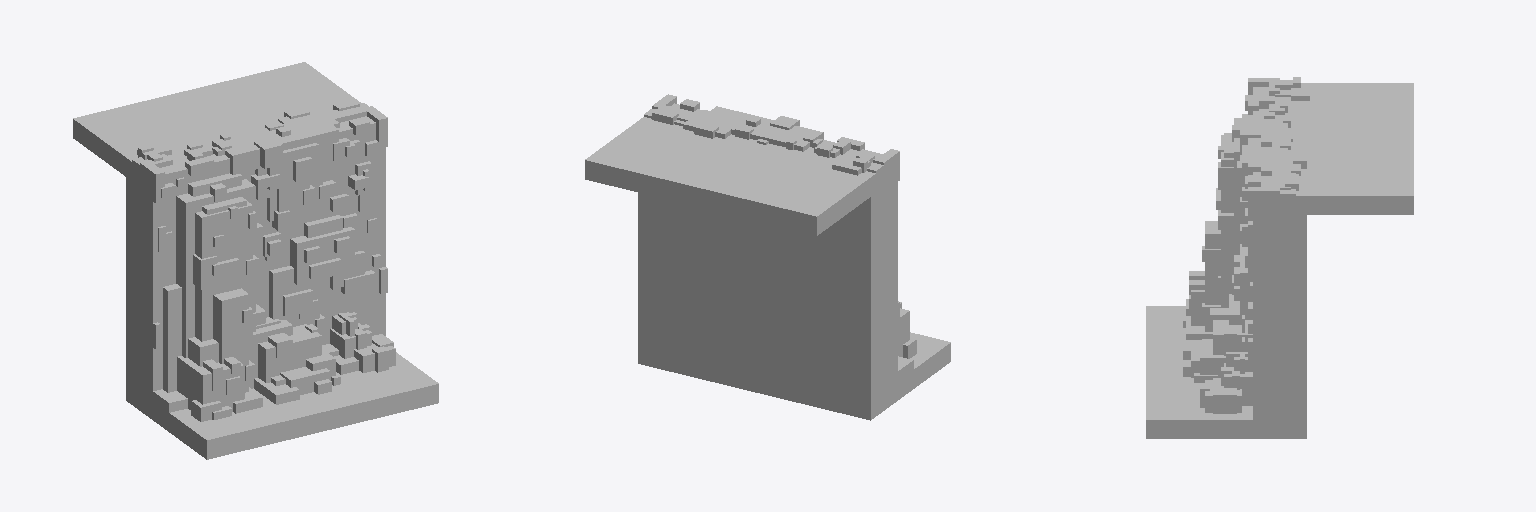
Rendered from Cliffs-4-Cliff 1.obj.
3 renders of one model, left to right at view 1: azimuth 30°, elevation 25°; view 2: azimuth 150°, elevation 25°; view 3: azimuth 270°, elevation 25°, orthographic.
Visible parts, largest first — view 1: Cliff 1; view 2: Cliff 1; view 3: Cliff 1.
Boxes of the visible parts, x1=… form: Cliff 1: x1=73, y1=62, x2=438, y2=459; Cliff 1: x1=585, y1=94, x2=950, y2=420; Cliff 1: x1=1146, y1=77, x2=1413, y2=438.
Bounding box in the file's own units: 10 × 10.4 × 10.